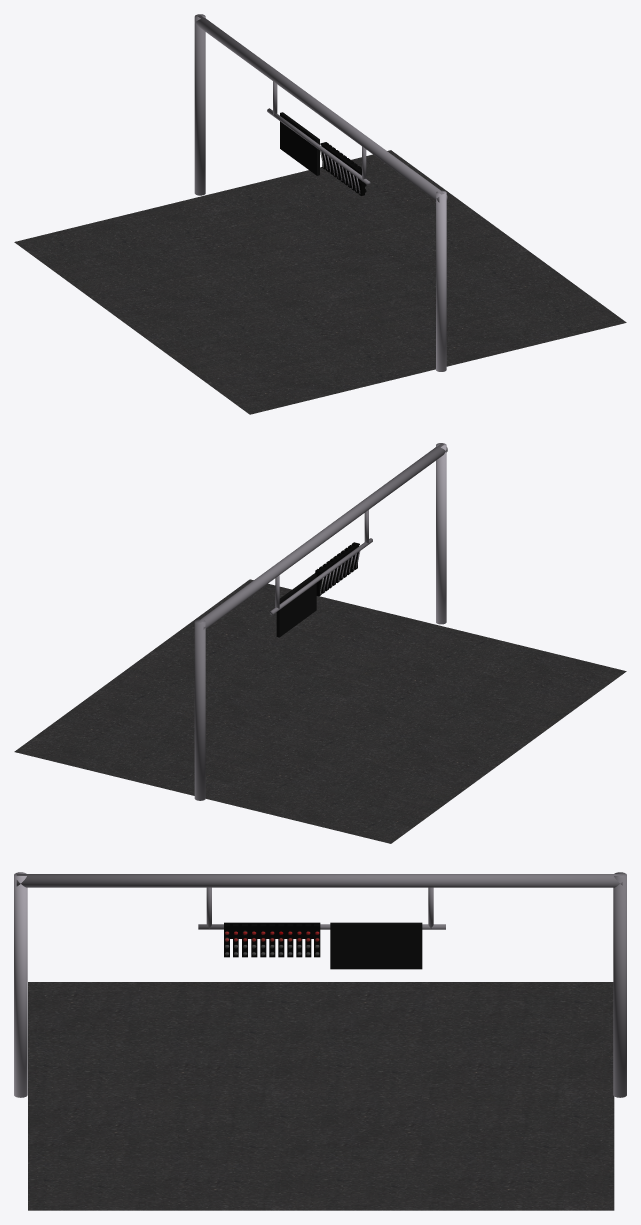
The model's file is tp4-feux-depart-f1.glb.
3 renders of one model, top to bottom at view 1: azimuth 30°, elevation 25°; view 2: azimuth 150°, elevation 25°; view 3: azimuth 270°, elevation 25°, orthographic. The views are drawn at different scales.
Visible parts, largest first — view 1: Plan, supportfeu.003, supportfeu.004, supportfeu.002, ecran, feu_depart, tube; view 2: Plan, supportfeu.003, supportfeu.004, supportfeu.002, ecran, feu_depart, tube; view 3: Plan, supportfeu.003, ecran, supportfeu.004, supportfeu.002, feu_depart.
Part boxes in pixels (x1,y1,x2,y2): Plan: (14, 150, 626, 414); supportfeu.003: (194, 15, 447, 202); supportfeu.004: (194, 14, 205, 195); supportfeu.002: (436, 190, 446, 371); ecran: (280, 112, 319, 175); feu_depart: (320, 142, 364, 195); tube: (267, 108, 370, 185); Plan: (14, 579, 626, 843); supportfeu.003: (198, 443, 447, 629); supportfeu.004: (194, 619, 205, 800); supportfeu.002: (436, 443, 446, 624); ecran: (276, 574, 316, 637); feu_depart: (315, 542, 359, 596); tube: (269, 538, 372, 614); Plan: (28, 982, 614, 1210); supportfeu.003: (16, 874, 622, 887); ecran: (330, 922, 422, 969); supportfeu.004: (613, 872, 626, 1097); supportfeu.002: (14, 872, 27, 1097); feu_depart: (224, 922, 320, 957).
Bounding box in the file's own units: 3.53 × 1.6 × 4.
Materials: 108 (1 with a texture image).
